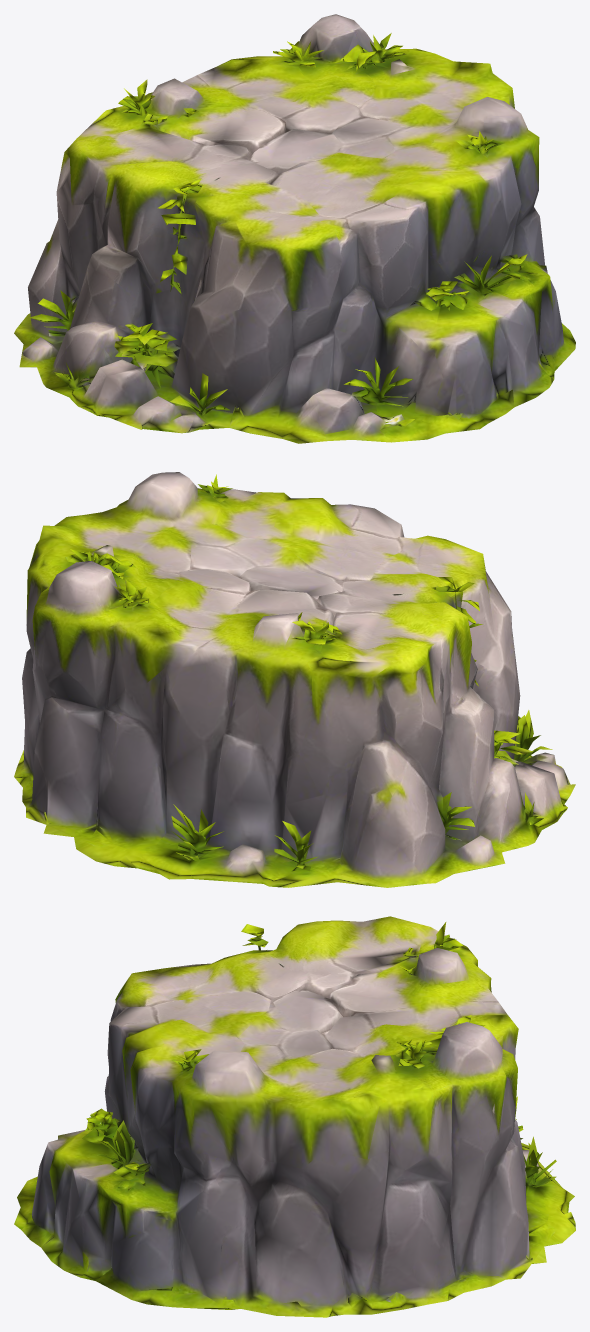
The picture shows the model from 3 angles, top to bottom: view 1: azimuth 30°, elevation 25°; view 2: azimuth 150°, elevation 25°; view 3: azimuth 270°, elevation 25°; orthographic projection. The views are drawn at different scales.
Visible parts, largest first — view 1: prop; view 2: prop; view 3: prop.
Boxes of the visible parts, left/top/right/bottom form: prop: left=14, top=14, right=575, bottom=443; prop: left=14, top=472, right=575, bottom=887; prop: left=14, top=916, right=575, bottom=1317.
Bounding box in the file's own units: 2.17 × 0.9982 × 2.17.
Materials: 1 (1 with a texture image).
